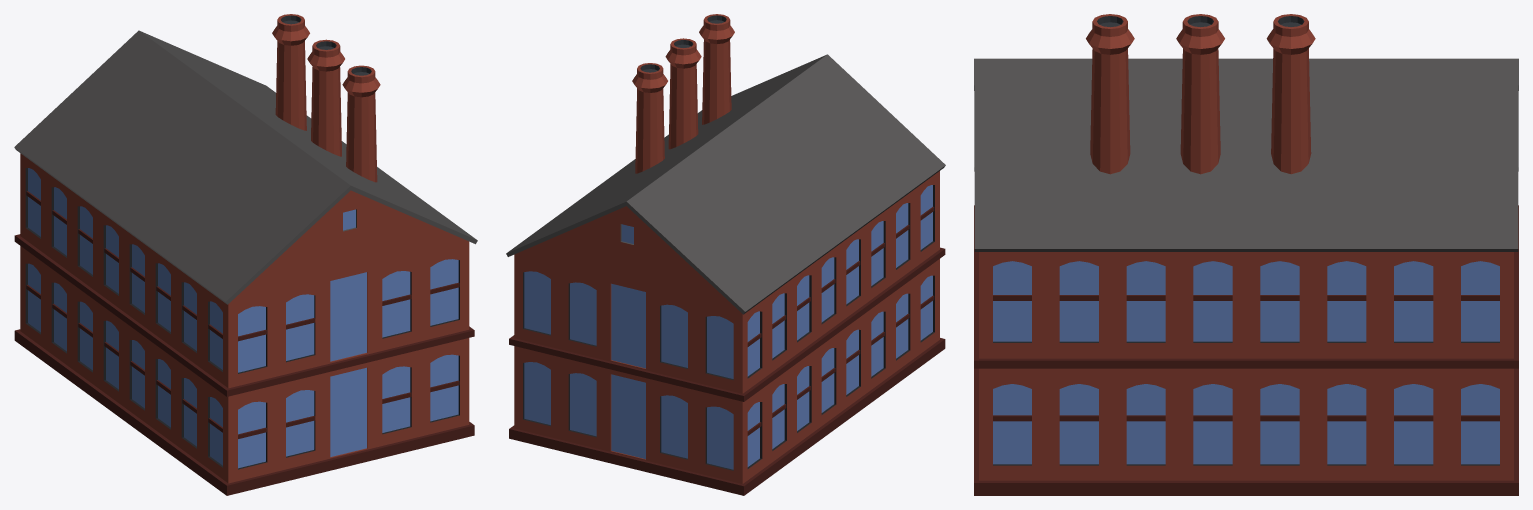
Rendered from Factory_4.fbx.
3 views of the same model, side by side, from view 1: azimuth 30°, elevation 25°; view 2: azimuth 150°, elevation 25°; view 3: azimuth 270°, elevation 25° (orthographic). The views are drawn at different scales.
Visible parts, largest first — view 1: Factory_4; view 2: Factory_4; view 3: Factory_4.
Boxes of the visible parts, x1=… form: Factory_4: x1=14, y1=14, x2=477, y2=495; Factory_4: x1=506, y1=14, x2=945, y2=495; Factory_4: x1=974, y1=14, x2=1518, y2=495.
Size of the model in its own units: 897 by 1155 by 1306.
